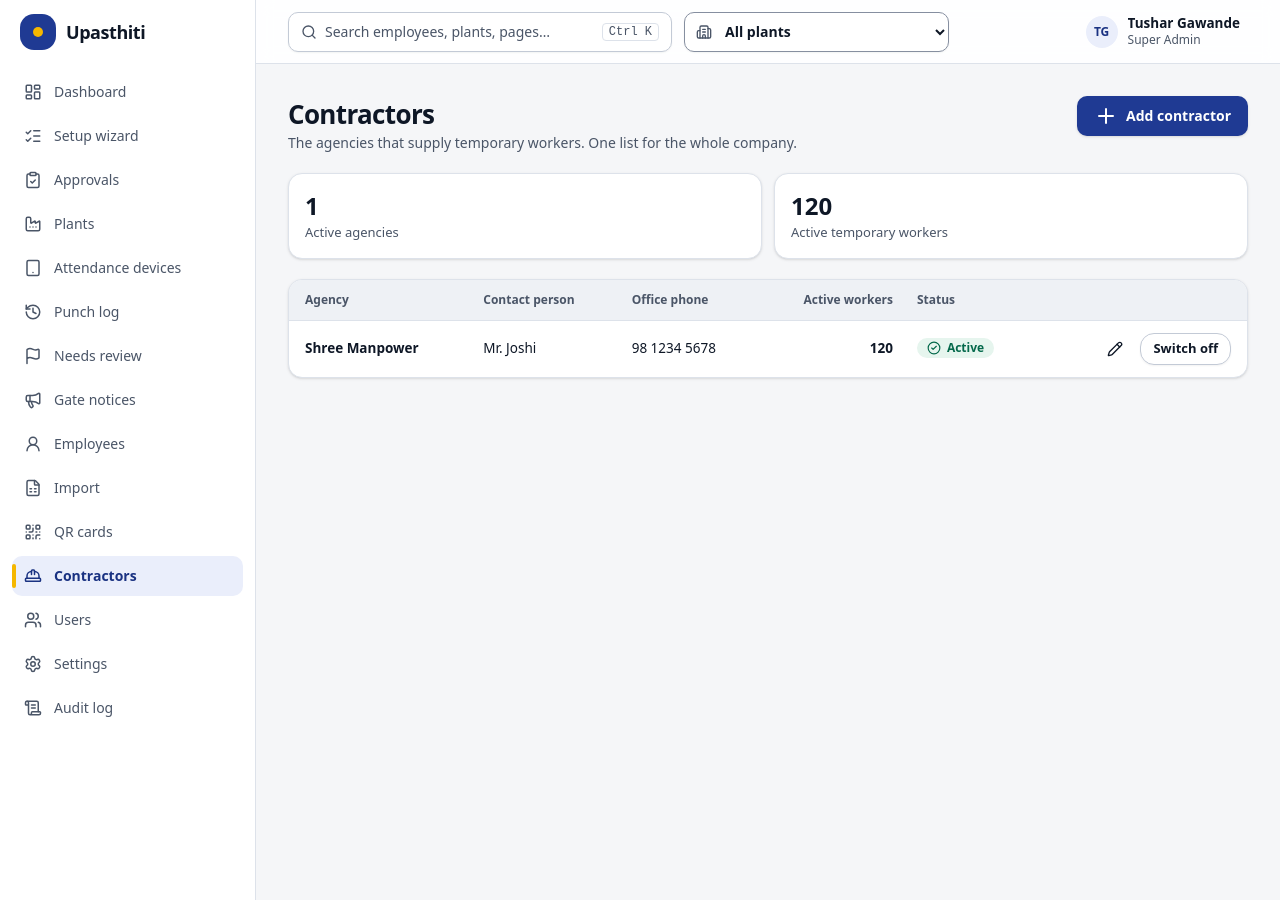
it: contractors › says why an agency with active workers cannot be switched off
This screenshot has width=1280, height=900.
Click the button "Switch off". click: (1186, 349)
box: [1140,333,1231,365]
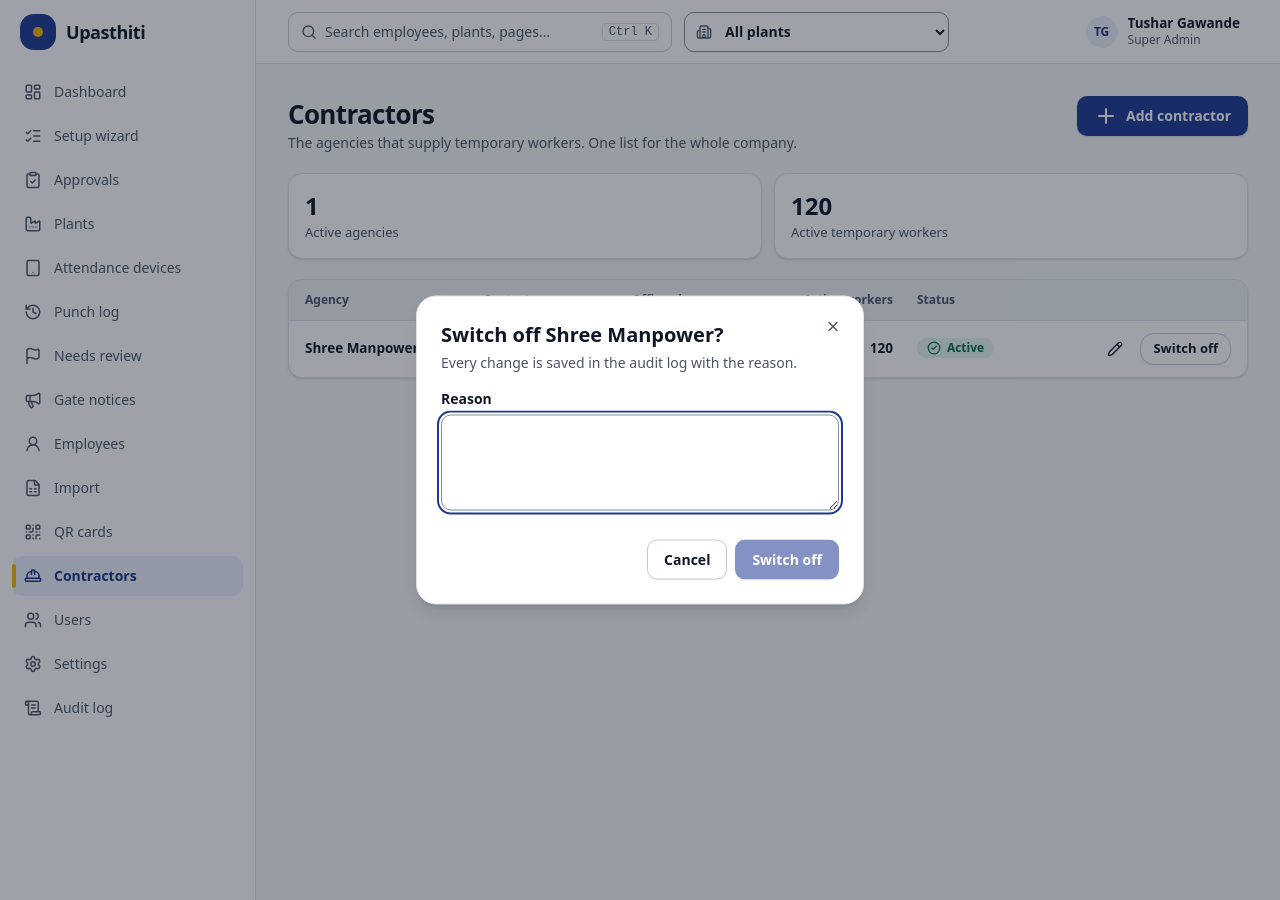
Type "Contract ended" into the text box labelled "Reason". click: (640, 462)
box: [441,414,839,510]
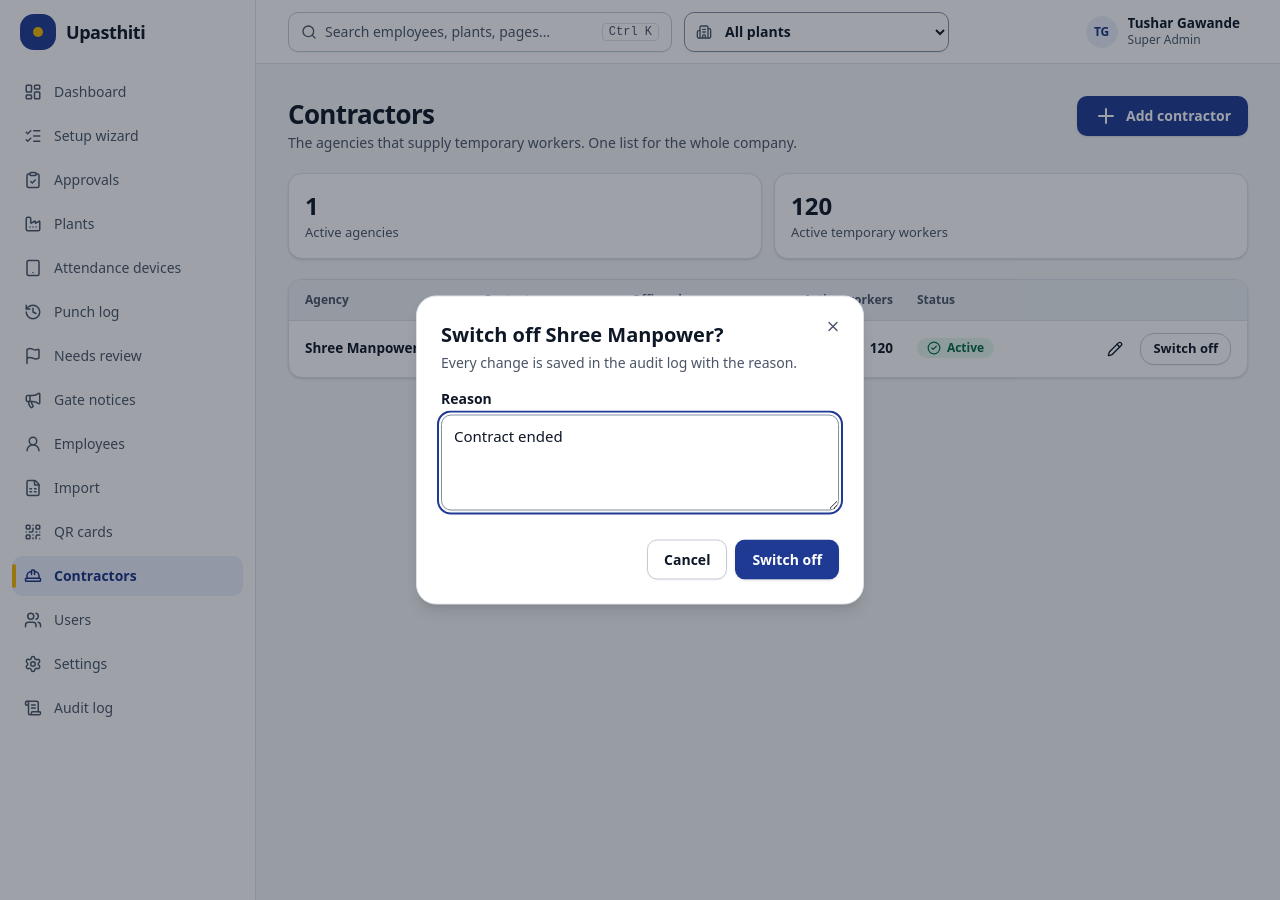
Click the button "Switch off". click: (787, 560)
box: [735,540,839,580]
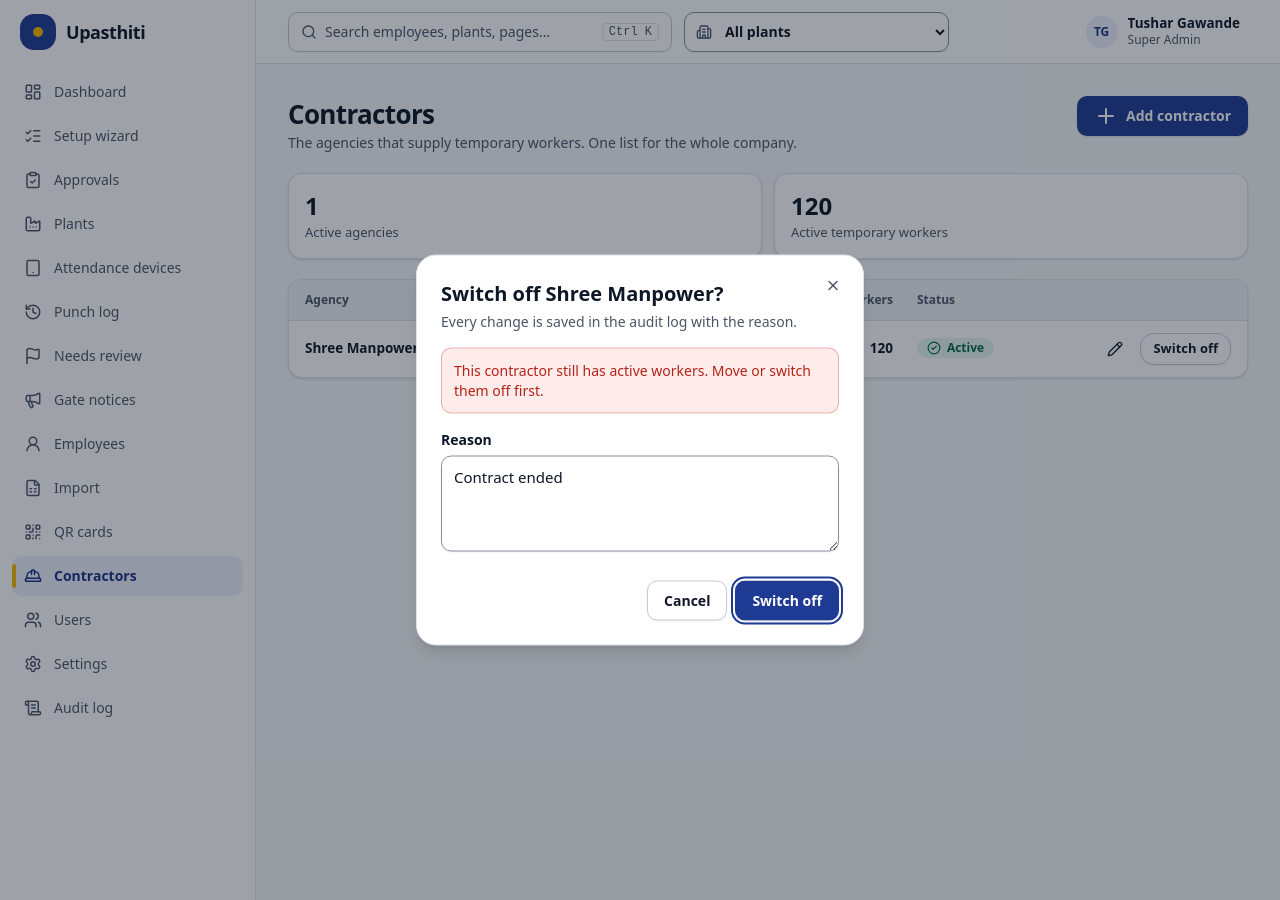
expect the text "still has active workers" is shown: met, box [454,360,811,400]
